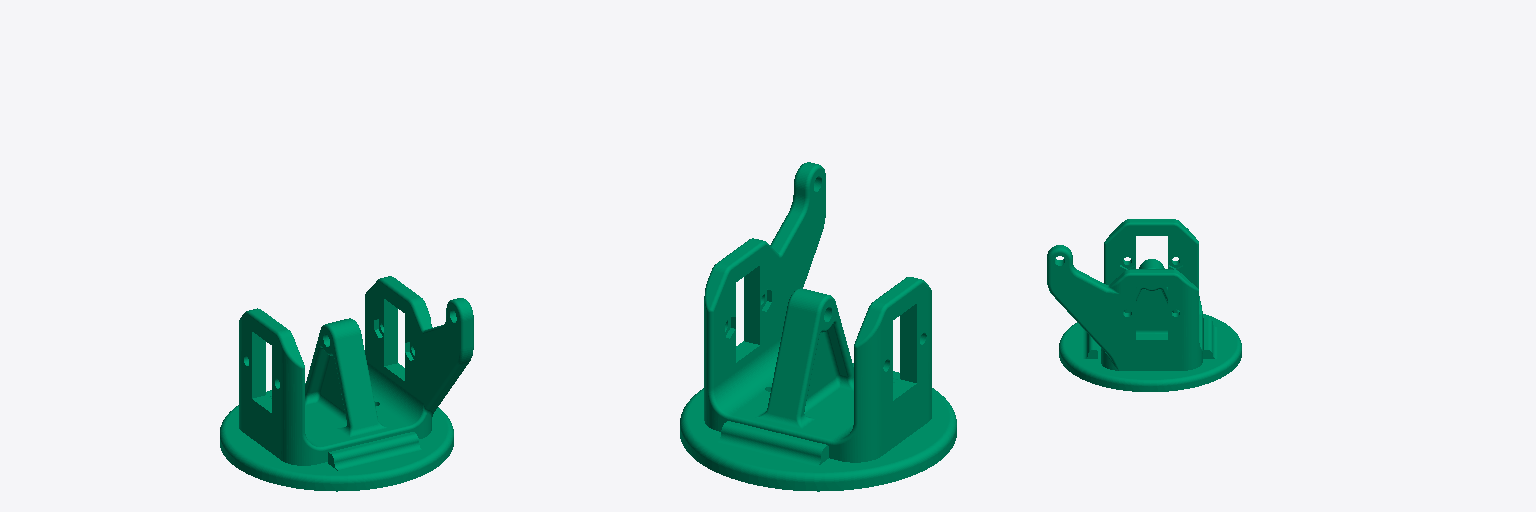
The robot description file, URDF, robot "arduinobot":
<?xml version="1.0" encoding="utf-8" ?>
<!-- =================================================================================== -->
<!-- |    This document was autogenerated by xacro from [local-path]/arduinobot/src/arduinobot_description/src/urdf/arduinobot.urdf.xacro | -->
<!-- |    EDITING THIS FILE BY HAND IS NOT RECOMMENDED                                 | -->
<!-- =================================================================================== -->
<robot name="arduinobot">
    <!-- Links -->
    <link name="world" />
    <link name="base_link">
        <visual>
            <origin rpy="0 0 0" xyz="-0.5 -0.5 0" />
            <geometry>
                <mesh filename="package://arduinobot_description/src/mesh/basement.STL" scale="0.01 0.01 0.01" />
            </geometry>
        </visual>
        <collision>
            <origin rpy="0 0 0" xyz="-0.5 -0.5 0" />
            <geometry>
                <mesh filename="package://arduinobot_description/src/mesh/basement.STL" scale="0.01 0.01 0.01" />
            </geometry>
        </collision>
        
<inertial>
            <mass value="0.1" />
            <inertia ixx="0.03" iyy="0.03" izz="0.03" ixy="0.0" ixz="0.0" iyz="0.0" />
        </inertial>

    </link>
    <link name="base_plate">
        <visual>
            <origin rpy="0 0 0" xyz="-0.39 -0.39 -0.56" />
            <geometry>
                <mesh filename="package://arduinobot_description/src/mesh/base_plate.STL" scale="0.01 0.01 0.01" />
            </geometry>
        </visual>
        <collision>
            <origin rpy="0 0 0" xyz="-0.39 -0.39 -0.56" />
            <geometry>
                <mesh filename="package://arduinobot_description/src/mesh/round_plate.STL" scale="0.01 0.01 0.01" />
            </geometry>
        </collision>
        
<inertial>
            <mass value="0.1" />
            <inertia ixx="0.03" iyy="0.03" izz="0.03" ixy="0.0" ixz="0.0" iyz="0.0" />
        </inertial>

    </link>
    <link name="forward_drive_arm">
        <visual>
            <origin rpy=" 0 -1.5707963268 1.5707963268" xyz="0.19 0.06 -0.08" />
            <geometry>
                <mesh filename="package://arduinobot_description/src/mesh/forward_drive_arm.STL" scale="0.01 0.01 0.01" />
            </geometry>
        </visual>
        <collision>
            <origin rpy=" 0 -1.5707963268 1.5707963268" xyz="0.19 0.06 -0.08" />
            <geometry>
                <mesh filename="package://arduinobot_description/src/mesh/forward_drive_arm.STL" scale="0.01 0.01 0.01" />
            </geometry>
        </collision>
        
<inertial>
            <mass value="0.1" />
            <inertia ixx="0.03" iyy="0.03" izz="0.03" ixy="0.0" ixz="0.0" iyz="0.0" />
        </inertial>

    </link>
    <link name="horizontal_arm">
        <visual>
            <origin rpy="1.5707963268 0 1.5707963268" xyz="-0.03 -0.4 -0.06" />
            <geometry>
                <mesh filename="package://arduinobot_description/src/mesh/horizontal_arm.STL" scale="0.01 0.01 0.01" />
            </geometry>
        </visual>
        <collision>
            <origin rpy="1.5707963268 0 1.5707963268" xyz="-0.03 -0.4 -0.06" />
            <geometry>
                <mesh filename="package://arduinobot_description/src/mesh/horizontal_arm.STL" scale="0.01 0.01 0.01" />
            </geometry>
        </collision>
        
<inertial>
            <mass value="0.1" />
            <inertia ixx="0.03" iyy="0.03" izz="0.03" ixy="0.0" ixz="0.0" iyz="0.0" />
        </inertial>

    </link>
    <link name="claw_support">
        <visual>
            <origin rpy="0 0 1.5707963268" xyz="0 -0.05 -0.15" />
            <geometry>
                <mesh filename="package://arduinobot_description/src/mesh/claw_support.STL" scale="0.01 0.01 0.01" />
            </geometry>
        </visual>
        <collision>
            <origin rpy="0 0 1.5707963268" xyz="0 -0.05 -0.15" />
            <geometry>
                <mesh filename="package://arduinobot_description/src/mesh/claw_support.STL" scale="0.01 0.01 0.01" />
            </geometry>
        </collision>
        
<inertial>
            <mass value="0.1" />
            <inertia ixx="0.03" iyy="0.03" izz="0.03" ixy="0.0" ixz="0.0" iyz="0.0" />
        </inertial>

    </link>
    <link name="gripper_right">
        <visual>
            <origin rpy="0 0 -1.5707963268" xyz="-0.1 0.50 -0.1" />
            <geometry>
                <mesh filename="package://arduinobot_description/src/mesh/right_finger.STL" scale="0.01 0.01 0.01" />
            </geometry>
        </visual>
        <collision>
            <origin rpy="0 0 -1.5707963268" xyz="-0.1 0.50 -0.1" />
            <geometry>
                <mesh filename="package://arduinobot_description/src/mesh/right_finger.STL" scale="0.01 0.01 0.01" />
            </geometry>
        </collision>
        
<inertial>
            <mass value="0.1" />
            <inertia ixx="0.03" iyy="0.03" izz="0.03" ixy="0.0" ixz="0.0" iyz="0.0" />
        </inertial>

    </link>
    <link name="gripper_left">
        <visual>
            <origin rpy="0 0 -1.5707963268" xyz="-0.04 0.50 -0.1" />
            <geometry>
                <mesh filename="package://arduinobot_description/src/mesh/left_finger.STL" scale="0.01 0.01 0.01" />
            </geometry>
        </visual>
        <collision>
            <origin rpy="0 0 -1.5707963268" xyz="-0.2 0.50 -0.1" />
            <geometry>
                <mesh filename="package://arduinobot_description/src/mesh/left_finger.STL" scale="0.01 0.01 0.01" />
            </geometry>
        </collision>
        
<inertial>
            <mass value="0.1" />
            <inertia ixx="0.03" iyy="0.03" izz="0.03" ixy="0.0" ixz="0.0" iyz="0.0" />
        </inertial>

    </link>
    <link name="tool_link" />
    <!-- Joints -->
    <joint name="joint_world" type="fixed">
        <parent link="world" />
        <child link="base_link" />
        <origin rpy="0 0 0" xyz="0 0 0" />
    </joint>
    <joint name="joint_1" type="revolute">
        <parent link="base_link" />
        <child link="base_plate" />
        <origin xyz="0 0 0.307" />
        <axis xyz="0 0 1" />
        <limit effort="1000.0" lower="-1.5707963268" upper="1.5707963268" velocity="0.5" />
    </joint>
    <joint name="joint_2" type="revolute">
        <parent link="base_plate" />
        <child link="forward_drive_arm" />
        <origin xyz="0 0 0.28" />
        <axis xyz="1 0 0" />
        <limit effort="1000.0" lower="-1.5707963268" upper="1.5707963268" velocity="0.5" />
    </joint>
    <joint name="joint_3" type="revolute">
        <parent link="forward_drive_arm" />
        <child link="horizontal_arm" />
        <origin xyz="0 0 0.8" />
        <axis xyz="1 0 0" />
        <limit effort="1000.0" lower="-1.5707963268" upper="1.5707963268" velocity="0.5" />
    </joint>
    <joint name="horizontal_arm_to_claw_support" type="fixed">
        <parent link="horizontal_arm" />
        <child link="claw_support" />
        <origin xyz="0 0.82 0" />
    </joint>
    <joint name="joint_4" type="revolute">
        <parent link="claw_support" />
        <child link="gripper_right" />
        <origin xyz="-0.04 0.13 -0.1" />
        <axis xyz="0 0 1" />
        <limit effort="1000.0" lower="-1.5707963268" upper="0" velocity="0.5" />
    </joint>
    <joint name="joint_5" type="revolute">
        <parent link="claw_support" />
        <child link="gripper_left" />
        <origin xyz="-0.22 0.13 -0.1" />
        <axis xyz="0 0 1" />
        <limit effort="1000.0" lower="0" upper="1.5707963268" velocity="0.5" />
        <mimic joint="joint_4" multiplier="-1" offset="0" />
    </joint>
    <joint name="gripper_right_to_tool" type="fixed">
        <parent link="gripper_right" />
        <child link="tool_link" />
        <origin xyz="0 0 0" />
    </joint>
    <!-- Transmissions-->
    
<transmission name="transmission_1">
        <type>transmission_interface/SimpleTransmission</type>
        <joint name="joint_1">
            <hardwareInterface>PositionJointInterface</hardwareInterface>
        </joint>
        <actuator name="motor_1">
            <hardwareInterface>PositionJointInterface</hardwareInterface>
            <mechanicalReduction>1</mechanicalReduction>
        </actuator>
    </transmission>
    <transmission name="transmission_2">
        <type>transmission_interface/SimpleTransmission</type>
        <joint name="joint_2">
            <hardwareInterface>PositionJointInterface</hardwareInterface>
        </joint>
        <actuator name="motor_2">
            <hardwareInterface>PositionJointInterface</hardwareInterface>
            <mechanicalReduction>1</mechanicalReduction>
        </actuator>
    </transmission>
    <transmission name="transmission_3">
        <type>transmission_interface/SimpleTransmission</type>
        <joint name="joint_3">
            <hardwareInterface>PositionJointInterface</hardwareInterface>
        </joint>
        <actuator name="motor_3">
            <hardwareInterface>PositionJointInterface</hardwareInterface>
            <mechanicalReduction>1</mechanicalReduction>
        </actuator>
    </transmission>
    <transmission name="transmission_4">
        <type>transmission_interface/SimpleTransmission</type>
        <joint name="joint_4">
            <hardwareInterface>PositionJointInterface</hardwareInterface>
        </joint>
        <actuator name="motor_4">
            <hardwareInterface>PositionJointInterface</hardwareInterface>
            <mechanicalReduction>1</mechanicalReduction>
        </actuator>
    </transmission>
    <!-- Gazebo Configuration section -->
    <gazebo>
        <plugin filename="libgazebo_ros_control.so" name="gazebo_ros_control">
            <robotNamespace>/arduinobot</robotNamespace>
            <robotSimType>gazbo_roscontrol/DefaultRobotHWSim</robotSimType>
        </plugin>
    </gazebo>
    <transmission name="trans_joint_1">
        <type>transmission_interface/SimpleTransmission</type>
        <joint name="joint_1">
            <hardwareInterface>hardware_interface/PositionJointInterface</hardwareInterface>
        </joint>
        <actuator name="joint_1_motor">
            <hardwareInterface>hardware_interface/PositionJointInterface</hardwareInterface>
            <mechanicalReduction>1</mechanicalReduction>
        </actuator>
    </transmission>
    <transmission name="trans_joint_2">
        <type>transmission_interface/SimpleTransmission</type>
        <joint name="joint_2">
            <hardwareInterface>hardware_interface/PositionJointInterface</hardwareInterface>
        </joint>
        <actuator name="joint_2_motor">
            <hardwareInterface>hardware_interface/PositionJointInterface</hardwareInterface>
            <mechanicalReduction>1</mechanicalReduction>
        </actuator>
    </transmission>
    <transmission name="trans_joint_3">
        <type>transmission_interface/SimpleTransmission</type>
        <joint name="joint_3">
            <hardwareInterface>hardware_interface/PositionJointInterface</hardwareInterface>
        </joint>
        <actuator name="joint_3_motor">
            <hardwareInterface>hardware_interface/PositionJointInterface</hardwareInterface>
            <mechanicalReduction>1</mechanicalReduction>
        </actuator>
    </transmission>
    <transmission name="trans_joint_4">
        <type>transmission_interface/SimpleTransmission</type>
        <joint name="joint_4">
            <hardwareInterface>hardware_interface/EffortJointInterface</hardwareInterface>
        </joint>
        <actuator name="joint_4_motor">
            <hardwareInterface>hardware_interface/EffortJointInterface</hardwareInterface>
            <mechanicalReduction>1</mechanicalReduction>
        </actuator>
    </transmission>
    <transmission name="trans_joint_5">
        <type>transmission_interface/SimpleTransmission</type>
        <joint name="joint_5">
            <hardwareInterface>hardware_interface/EffortJointInterface</hardwareInterface>
        </joint>
        <actuator name="joint_5_motor">
            <hardwareInterface>hardware_interface/EffortJointInterface</hardwareInterface>
            <mechanicalReduction>1</mechanicalReduction>
        </actuator>
    </transmission>
    <gazebo>
        <plugin name="gazebo_ros_control" filename="libgazebo_ros_control.so">
            <robotNamespace>/</robotNamespace>
        </plugin>
    </gazebo>
</robot>

--- What the picture shows (computed from the rendered views, not written in the file) ---
3 views of the same robot in one strip: view 1: azimuth 30°, elevation 25°; view 2: azimuth 150°, elevation 25°; view 3: azimuth 270°, elevation 25° (orthographic).
Model arduinobot with 9 links and 8 joints (5 revolute, 3 fixed), rooted at world, posed every joint at zero.
Visible links, largest first — view 1: base_plate; view 2: base_plate; view 3: base_plate.
Link boxes in pixels (left/top/right/bottom): base_plate: left=220, top=276, right=473, bottom=491; base_plate: left=680, top=162, right=956, bottom=491; base_plate: left=1047, top=219, right=1241, bottom=391.
Size in the robot's own frame: 0.72 by 1.85 by 1.01 metres.
4 mesh visuals loaded from 7 distinct referenced files (4 binary STL); not drawn: 3 (reference not matched to a file when rendering).